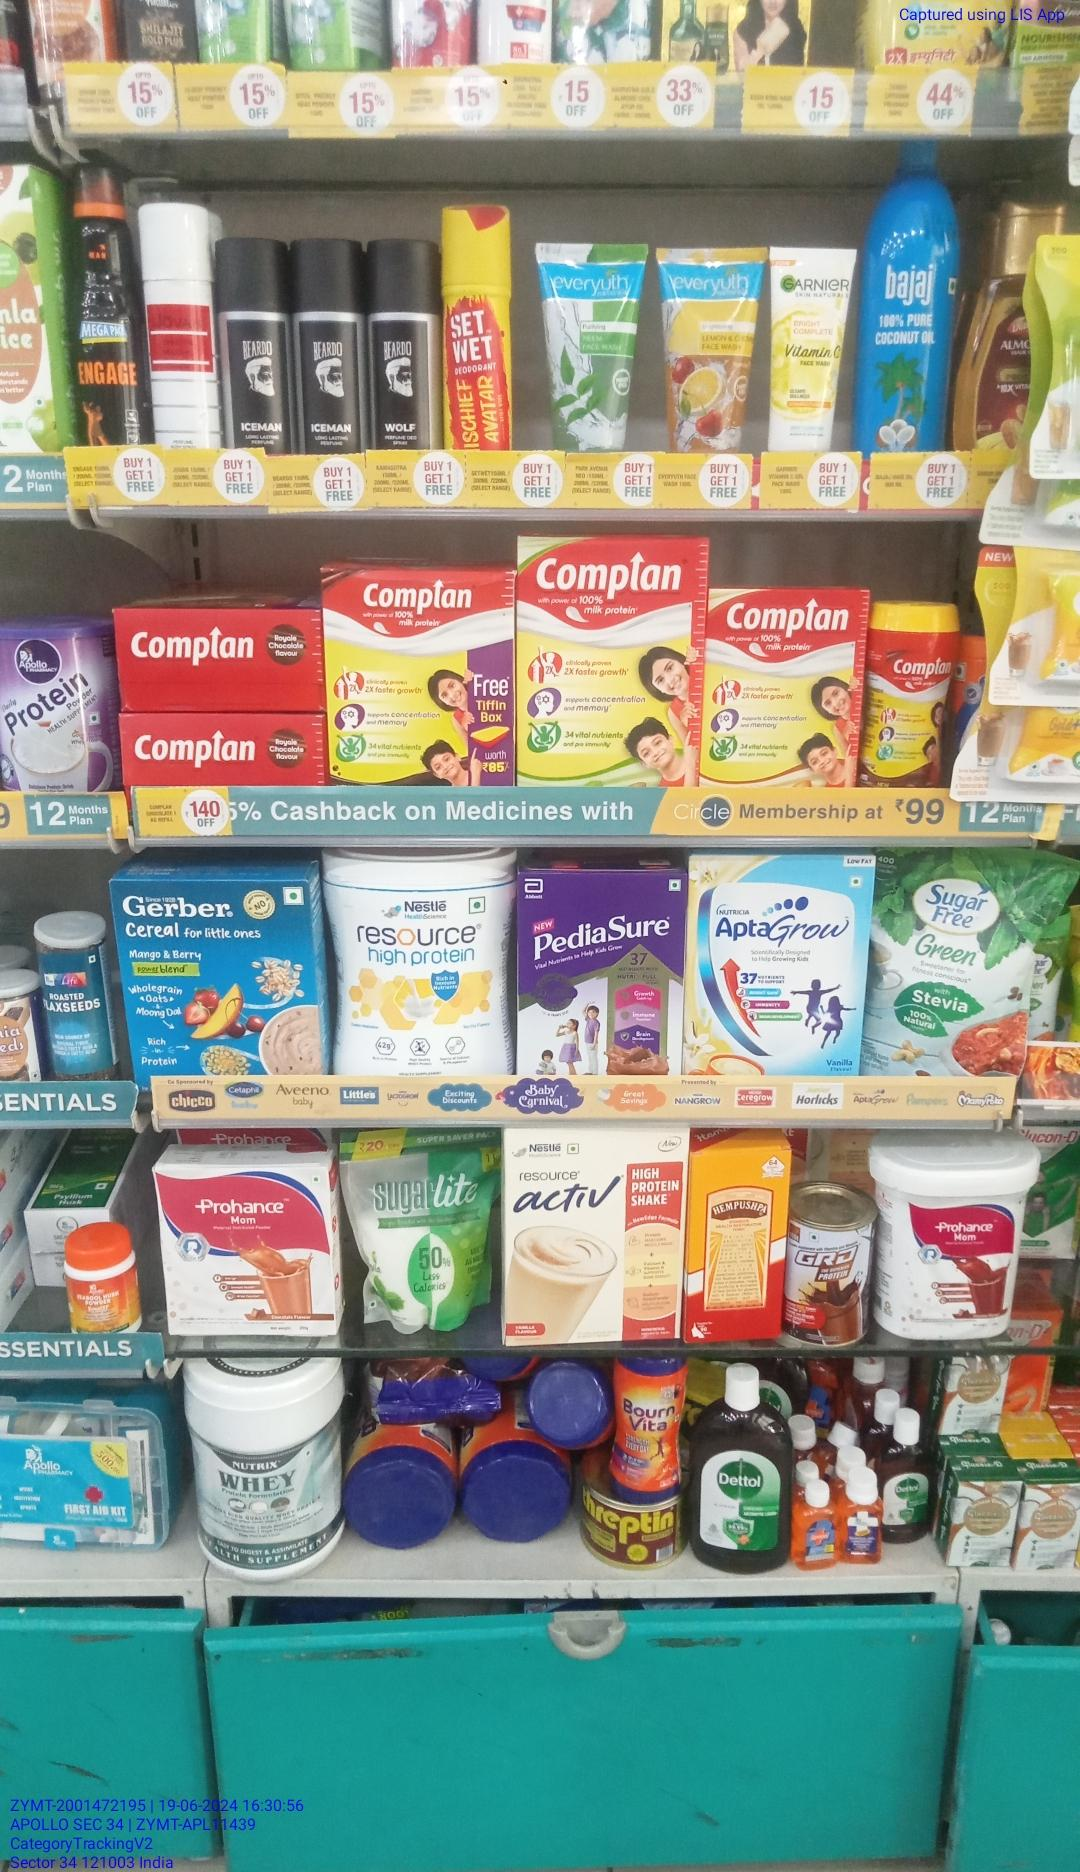BOURN_VITA_200_G_JAR: (617, 1350, 684, 1502)
COMPLAN_CHOCOLATE_200_GMS_JAR: (870, 604, 953, 792)
COMPLAN_KESAR_BADAM_200_GMS_PACK: (706, 586, 858, 788)
COMPLAN_PISTA_BADAM_500_GMS_PACK: (517, 535, 696, 813)
PEDIASURE_CHOCOLATE_500_G_PACK: (518, 872, 679, 1076)
